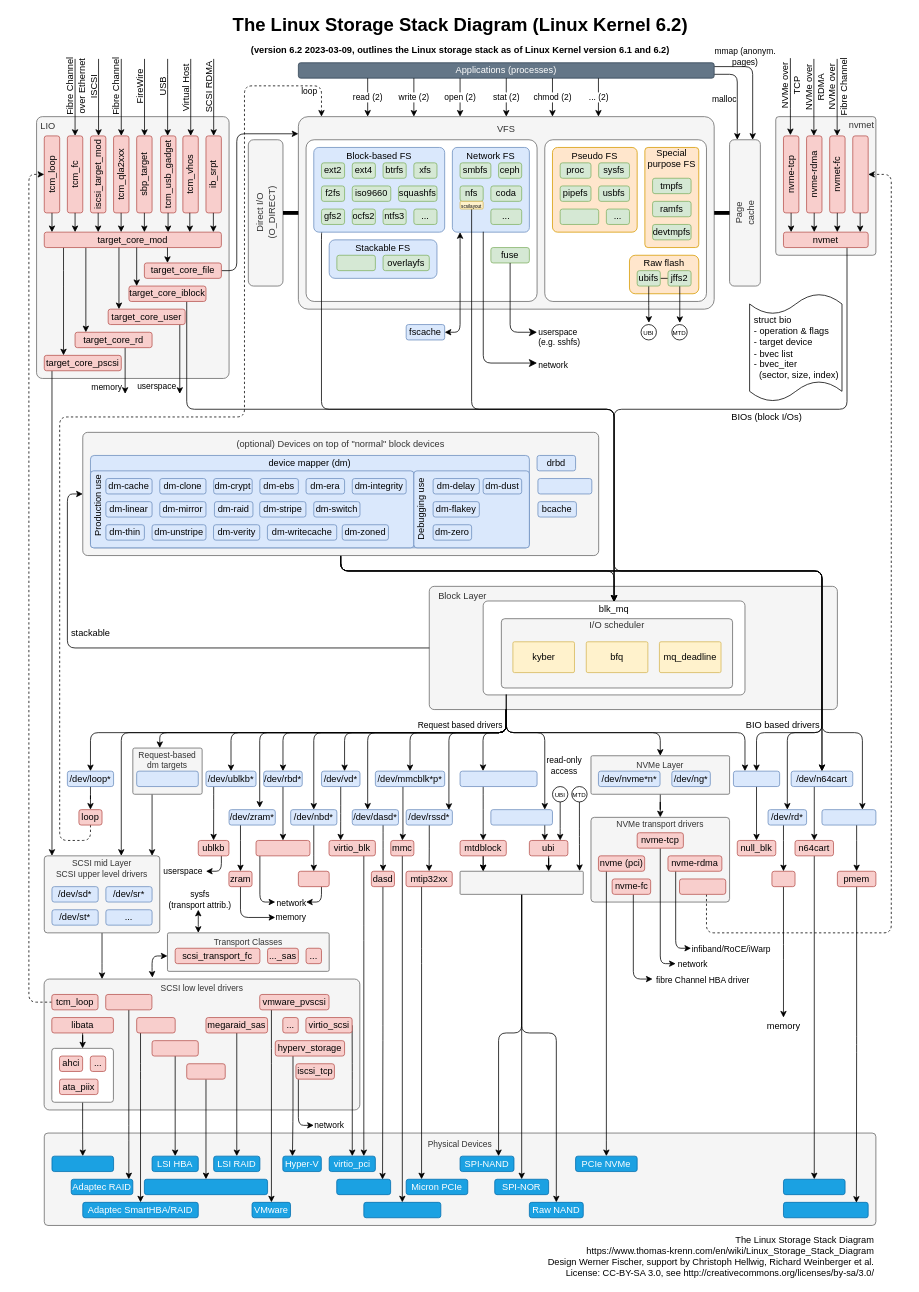
The diagram is 919 pixels wide and 1292 high, and some of its shapes have lost their labels. The shapes that lost their labels are listed below. From the top down, each one's centre as x and y in pixels, then its label:
the point at 860,174: nvmet-loop
the point at 579,216: futexfs
the point at 355,262: ecryptfs
the point at 564,486: md (RAID)
the point at 167,778: dm-multipath
the point at 498,778: /dev/mtdblock*ro
the point at 756,778: /dev/nullb*
the point at 521,817: /dev/ubiblock*
the point at 848,817: /dev/pmem
the point at 282,848: rbd
the point at 313,878: nbd
the point at 521,882: MTD (Memory Technology Device)
the point at 702,886: nvme-loop
the point at 783,878: brd
the point at 128,1002: aacraid
the point at 155,1025: smartpqi
the point at 174,1048: mpt3_sas
the point at 205,1071: mpi3mr
the point at 82,1163: ATA controller
the point at 206,1186: Broadcom MPI3.0 HBA/RAID
the point at 363,1186: IBM DASD
the point at 814,1186: N64 cartridge
the point at 402,1210: SD-/MMC-Card
the point at 825,1210: Persistent memory
